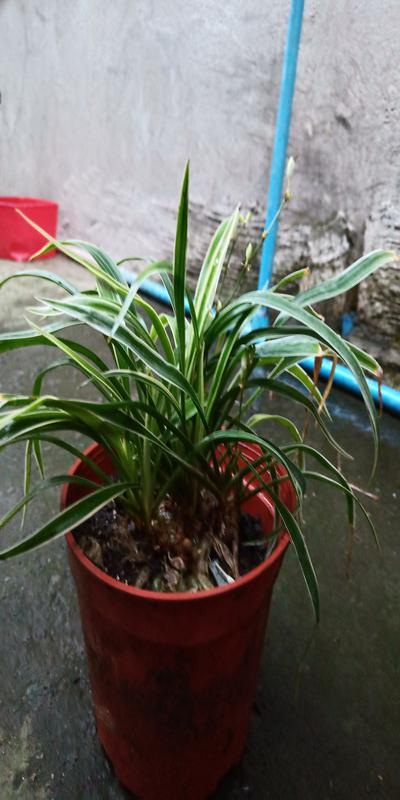Yellow and green leaf: (25, 242, 357, 545)
